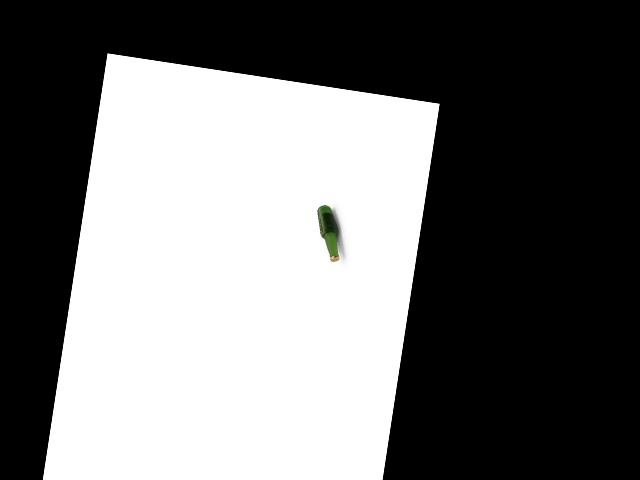beer: (310, 203, 347, 262)
